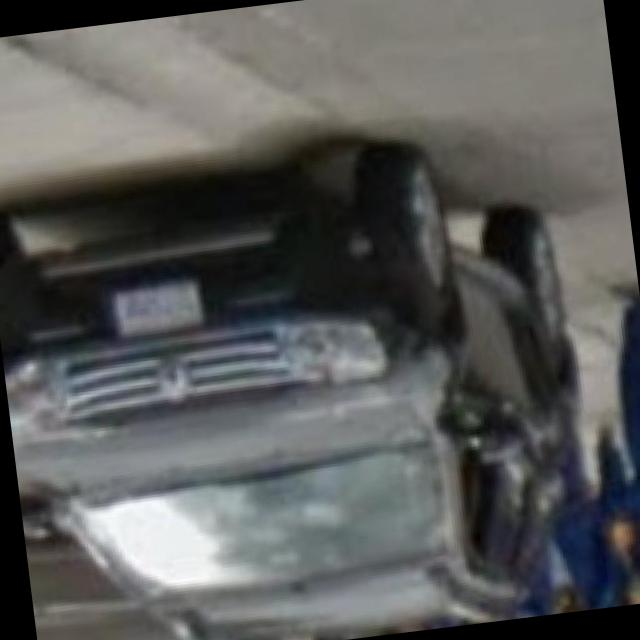car: (0, 111, 598, 640)
